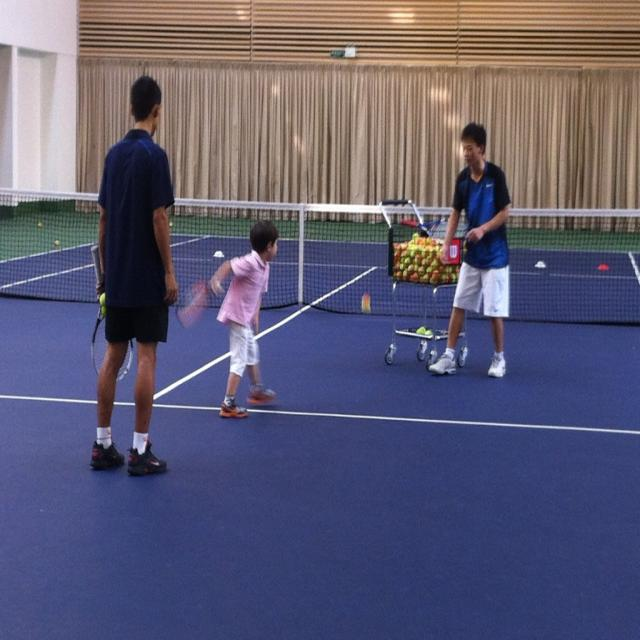Tennis ball: (392, 236, 458, 288), (426, 327, 434, 339), (418, 327, 427, 335), (100, 295, 105, 305), (38, 220, 44, 228), (101, 306, 105, 315), (168, 222, 172, 229), (55, 240, 59, 245)
